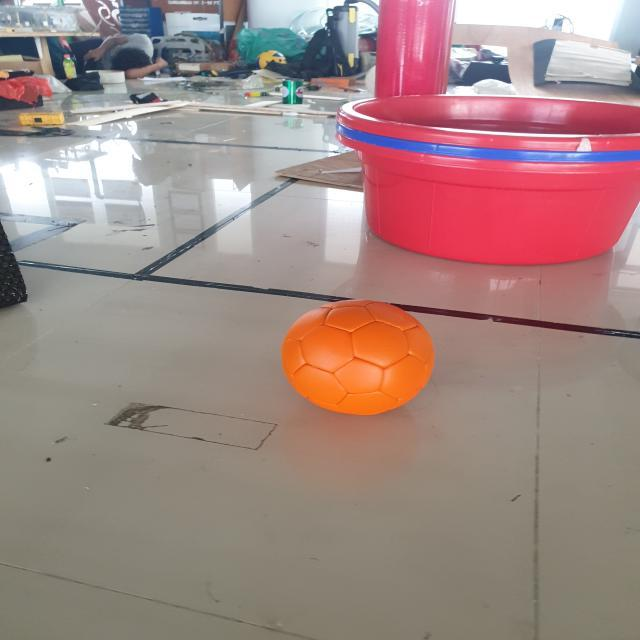bola: (273, 292, 444, 419)
